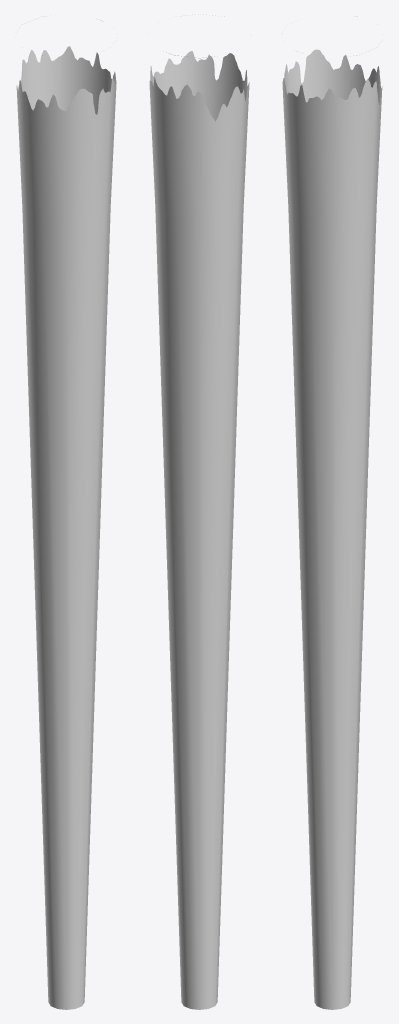
Rendered from Beacon.fbx.
3 renders of one model, left to right at view 1: azimuth 90°, elevation 25°; view 2: azimuth 210°, elevation 25°; view 3: azimuth 270°, elevation 25°, orthographic.
Parts seen in each view (by area): view 1: Cylinder; view 2: Cylinder; view 3: Cylinder.
Part boxes in pixels (x1,y1,x2,y2): Cylinder: (16,15,116,1009); Cylinder: (149,14,249,1009); Cylinder: (282,16,382,1009).
Size of the model in its own units: 3.41 by 3.41 by 34.8.
